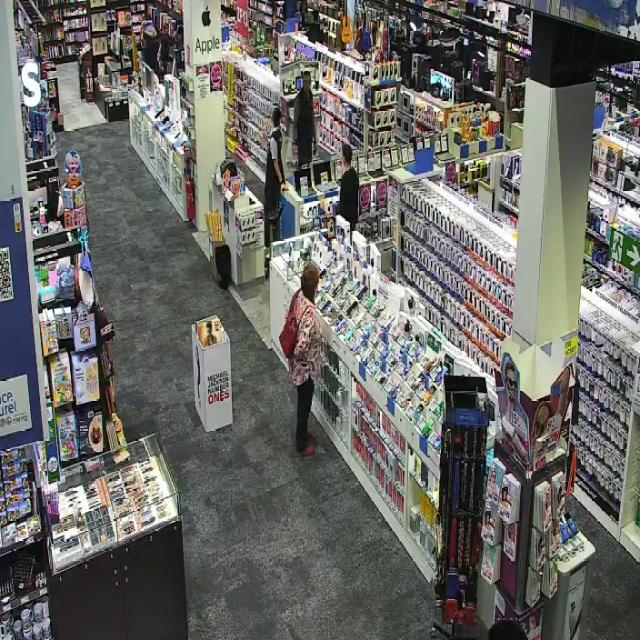bags: (280, 290, 299, 358)
hands: (280, 183, 288, 193), (313, 139, 317, 155), (293, 144, 298, 156)
person: (289, 262, 321, 456), (264, 106, 286, 248), (294, 71, 316, 167), (339, 144, 359, 231)
